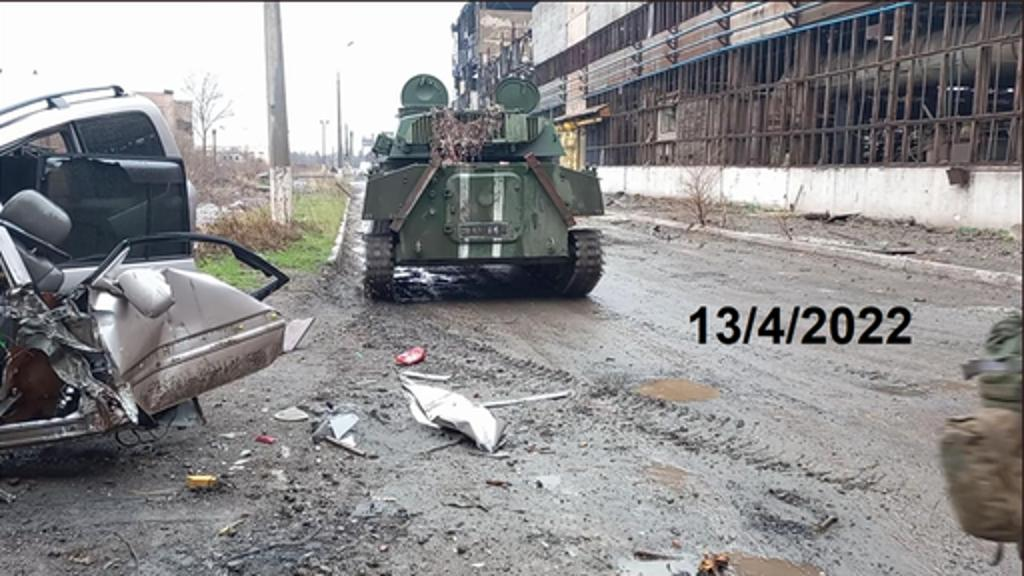ART: (338, 54, 614, 296)
